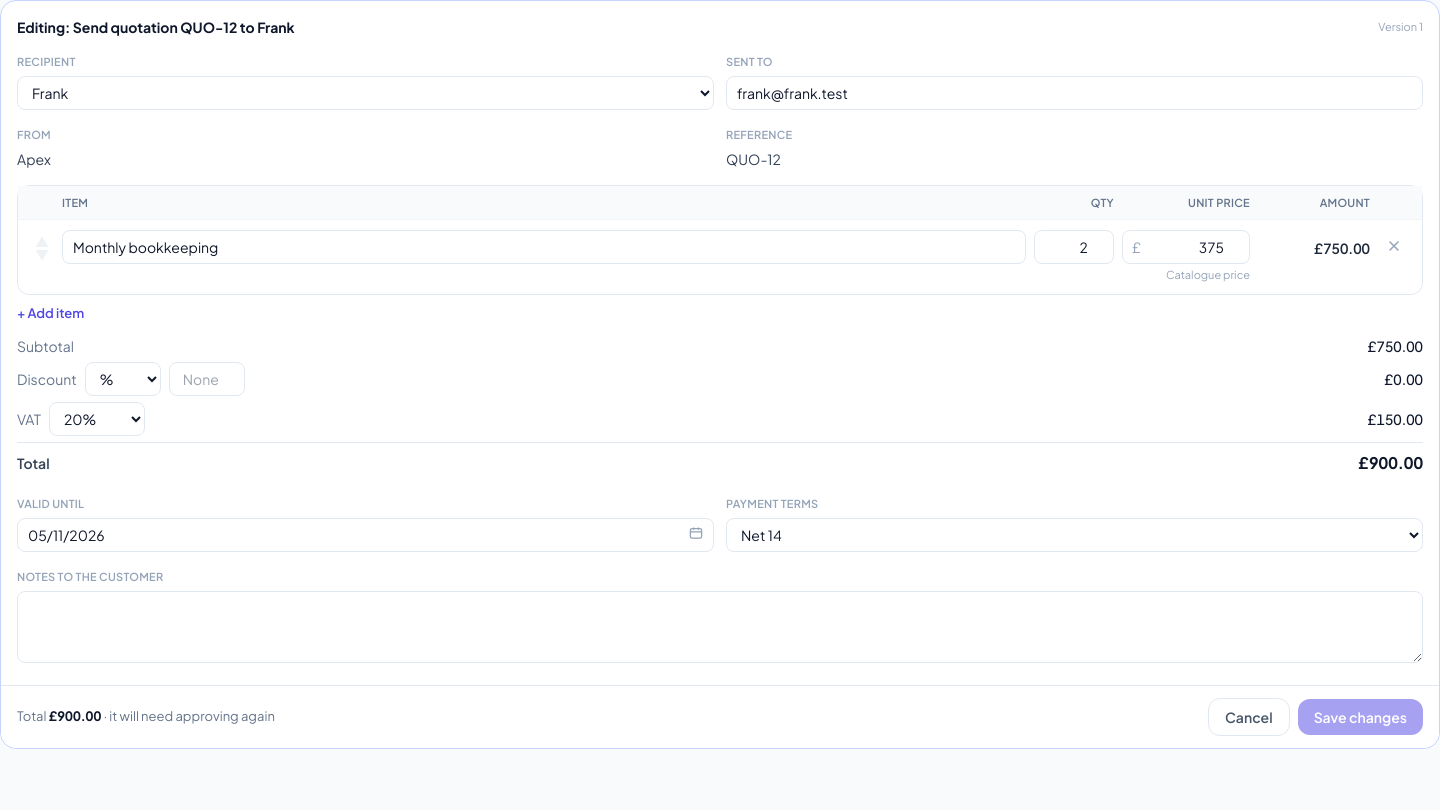
Test: the draft editor › fills the price when an item is swapped for one from the catalogue, and keeps a typed item as the owner's own
Step 1. Replace the text in the field named "item" with "Year-end accounts" → (544, 247), box [62,230,1026,264]
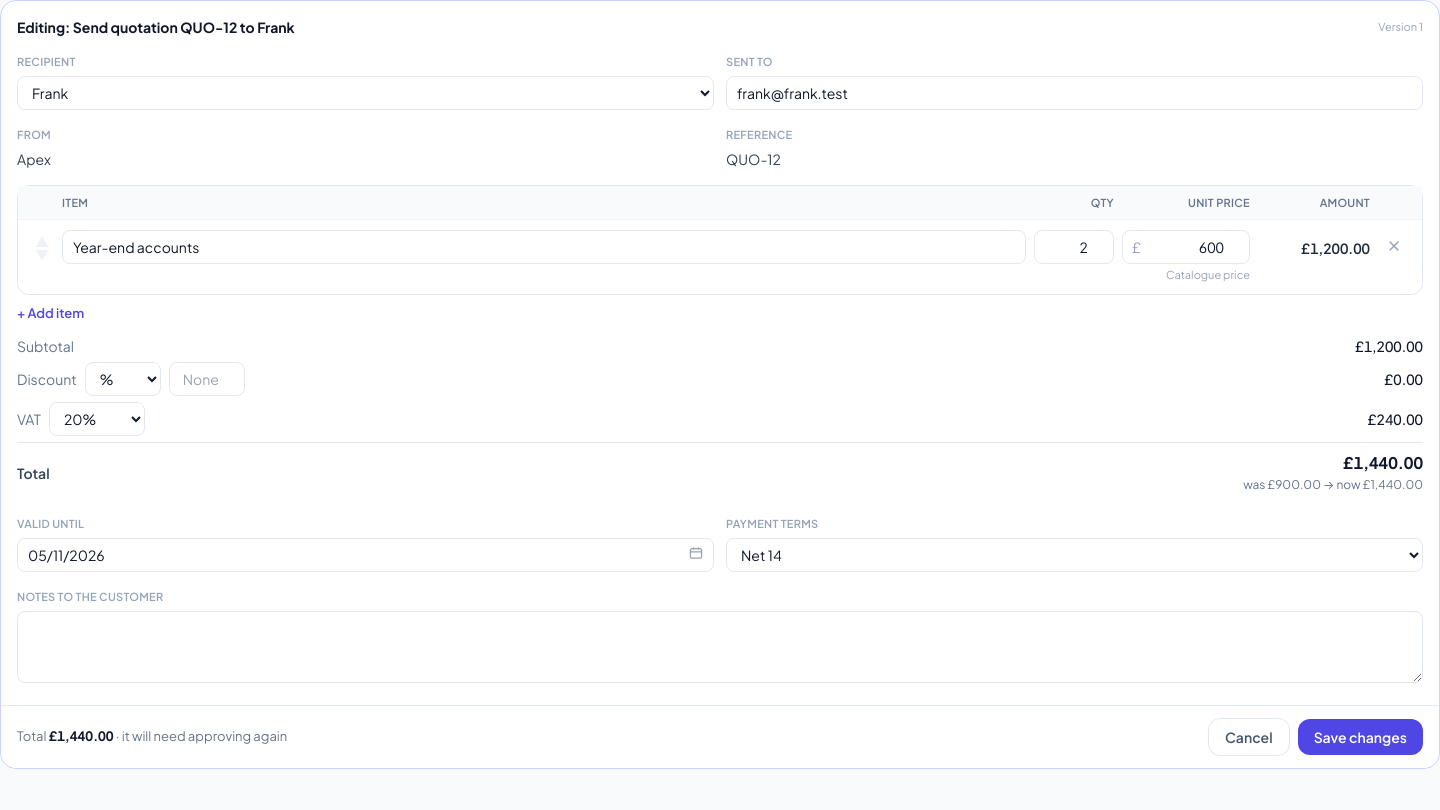
Expected: the text "Catalogue price" is shown, [1166,268,1250,281]
Expected: the number field named "Unit price" holds "600", [1122,230,1250,264]
Step 2. Replace the text in the field named "item" with "Site visit" → (544, 247), box [62,230,1026,264]
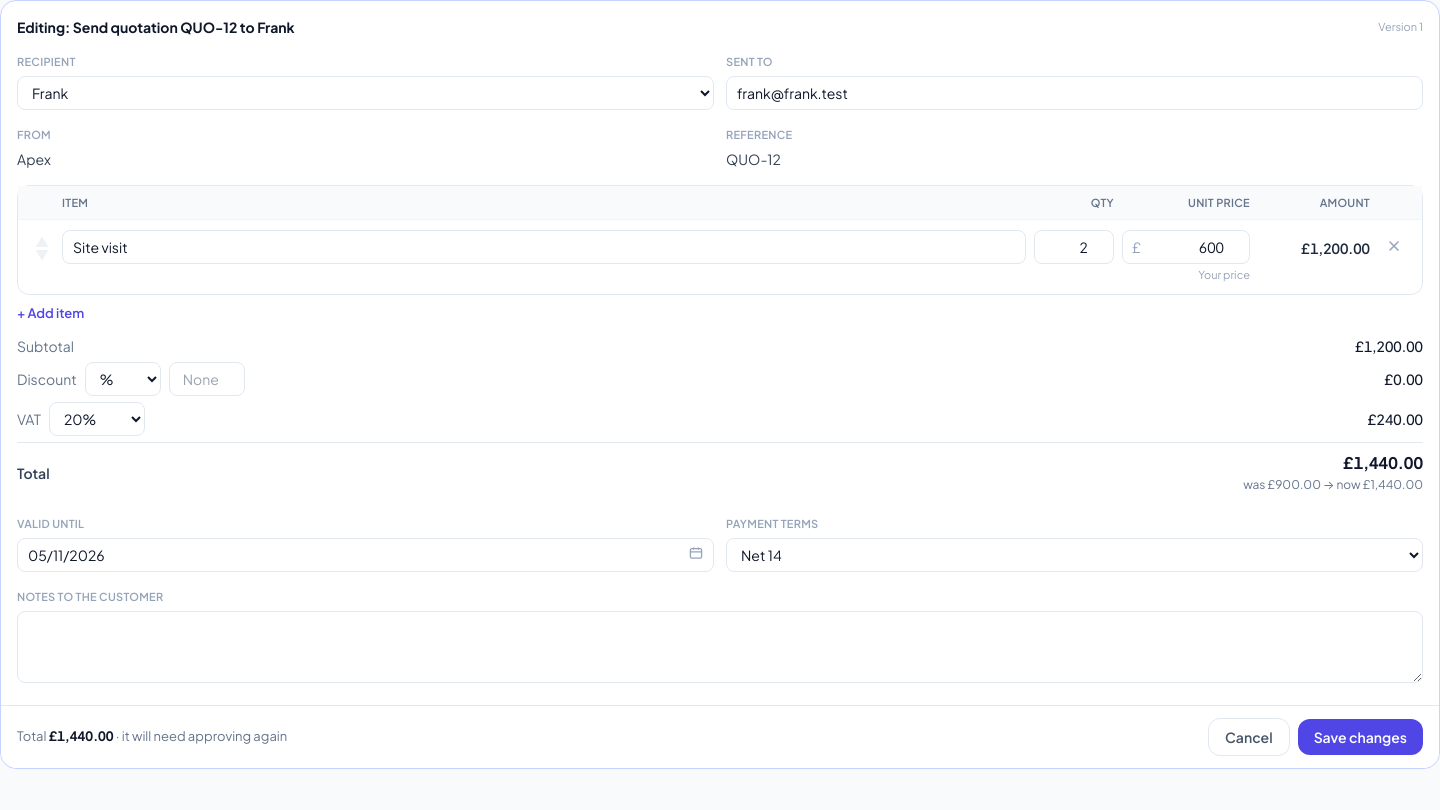
Expected: the text "Your price" is shown, [1198,268,1250,281]
